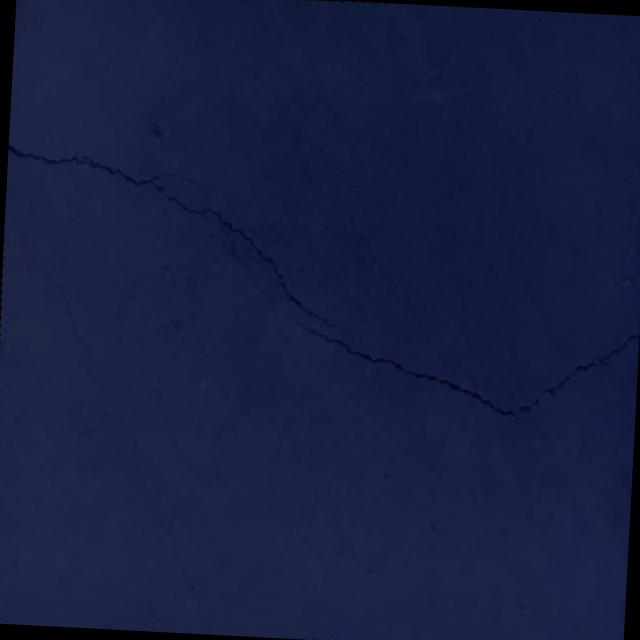crack: (0, 135, 351, 336), (274, 304, 640, 427)
